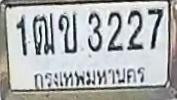1: (16, 15, 26, 56)
2: (127, 9, 143, 50), (107, 11, 123, 51)
3: (87, 12, 102, 52)
7: (147, 8, 163, 50)
A02: (58, 12, 78, 53)
A18: (32, 13, 54, 55)
BKK: (28, 61, 149, 91)
